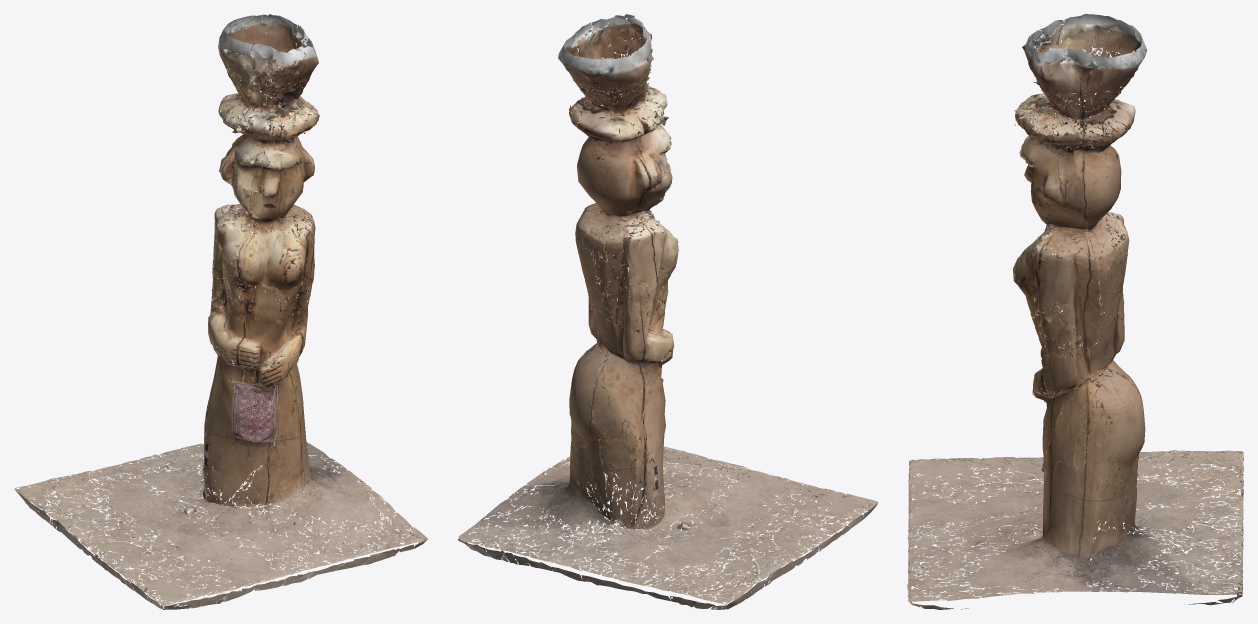
File: totem.glb
The picture shows the model from 3 angles, left to right: view 1: azimuth 30°, elevation 25°; view 2: azimuth 150°, elevation 25°; view 3: azimuth 270°, elevation 25°; orthographic projection. The views are drawn at different scales.
Parts seen in each view (by area): view 1: Object_7; view 2: Object_7; view 3: Object_7.
Part boxes in pixels (box(x1,y1,x2,y2)): Object_7: box(14, 14, 428, 609); Object_7: box(458, 14, 878, 609); Object_7: box(907, 14, 1243, 609).
Bounding box in the file's own units: 7.66 × 13.27 × 7.45.
Materials: 1 (1 with a texture image).
